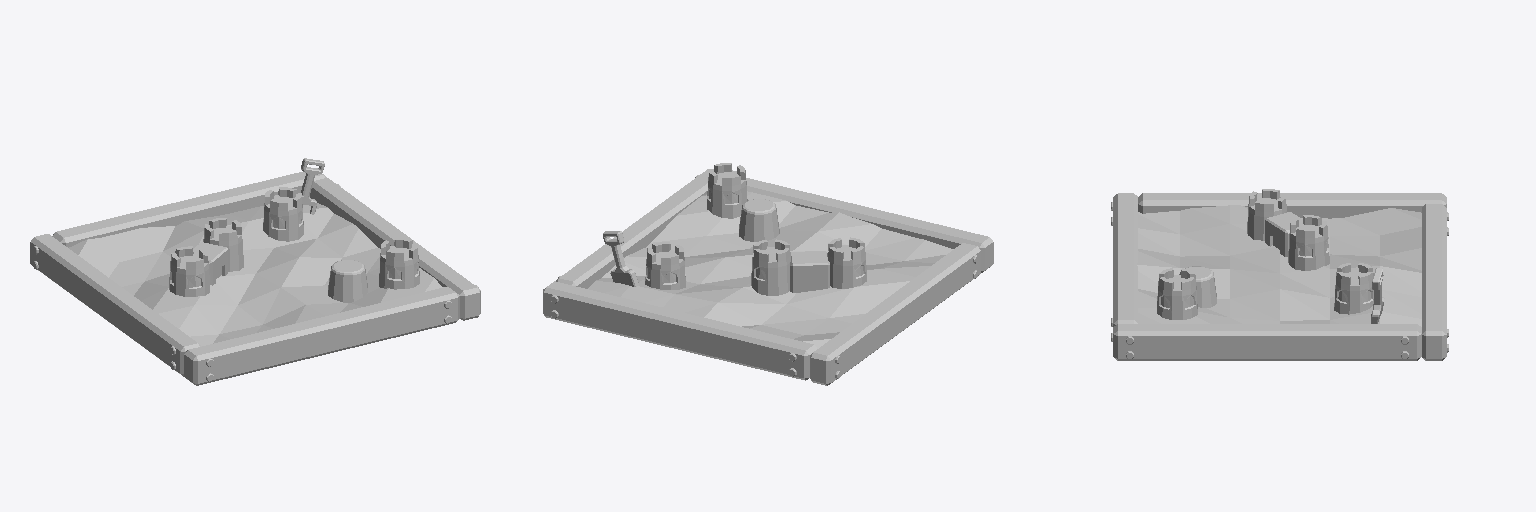
The model's file is sandbox_square_decorated.obj.
The picture shows the model from 3 angles: view 1: azimuth 30°, elevation 25°; view 2: azimuth 150°, elevation 25°; view 3: azimuth 270°, elevation 25°; orthographic projection.
Parts seen in each view (by area): view 1: sandbox_square_decorated; view 2: sandbox_square_decorated; view 3: sandbox_square_decorated.
Boxes of the visible parts, x1=… form: sandbox_square_decorated: x1=30, y1=158, x2=480, y2=385; sandbox_square_decorated: x1=543, y1=163, x2=993, y2=385; sandbox_square_decorated: x1=1111, y1=189, x2=1448, y2=360.
Bounding box in the file's own units: 4.06 × 0.9622 × 4.06.